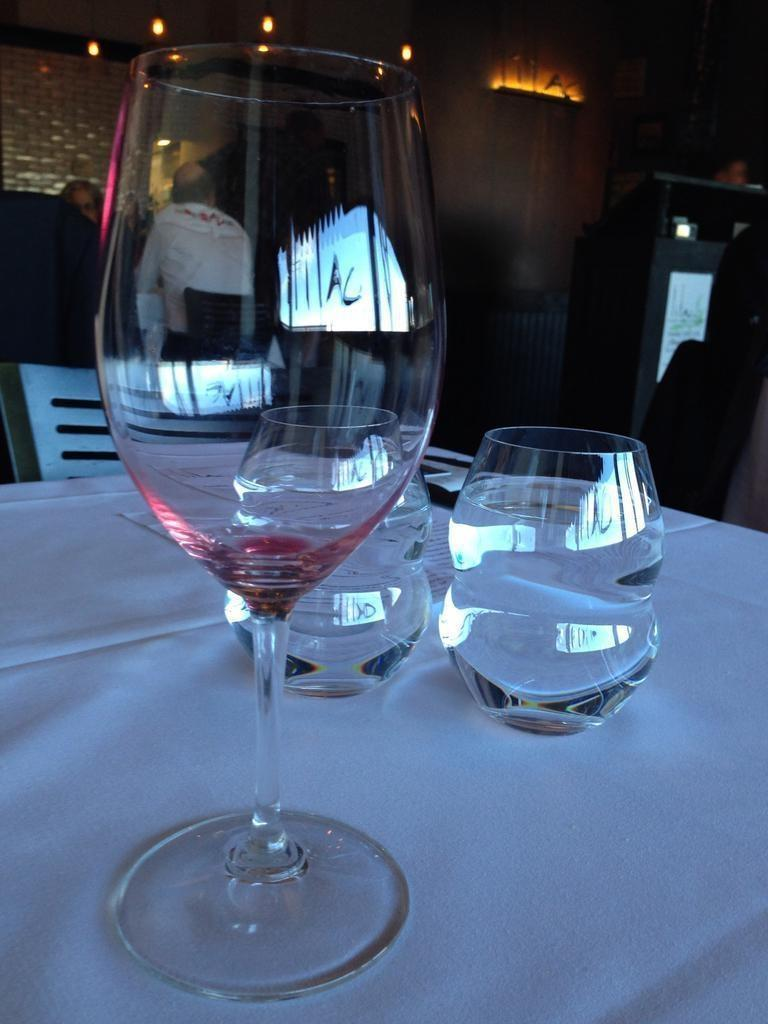glass-normal: (441, 420, 674, 749), (225, 405, 429, 702)
glass-wine: (89, 39, 446, 1007)
